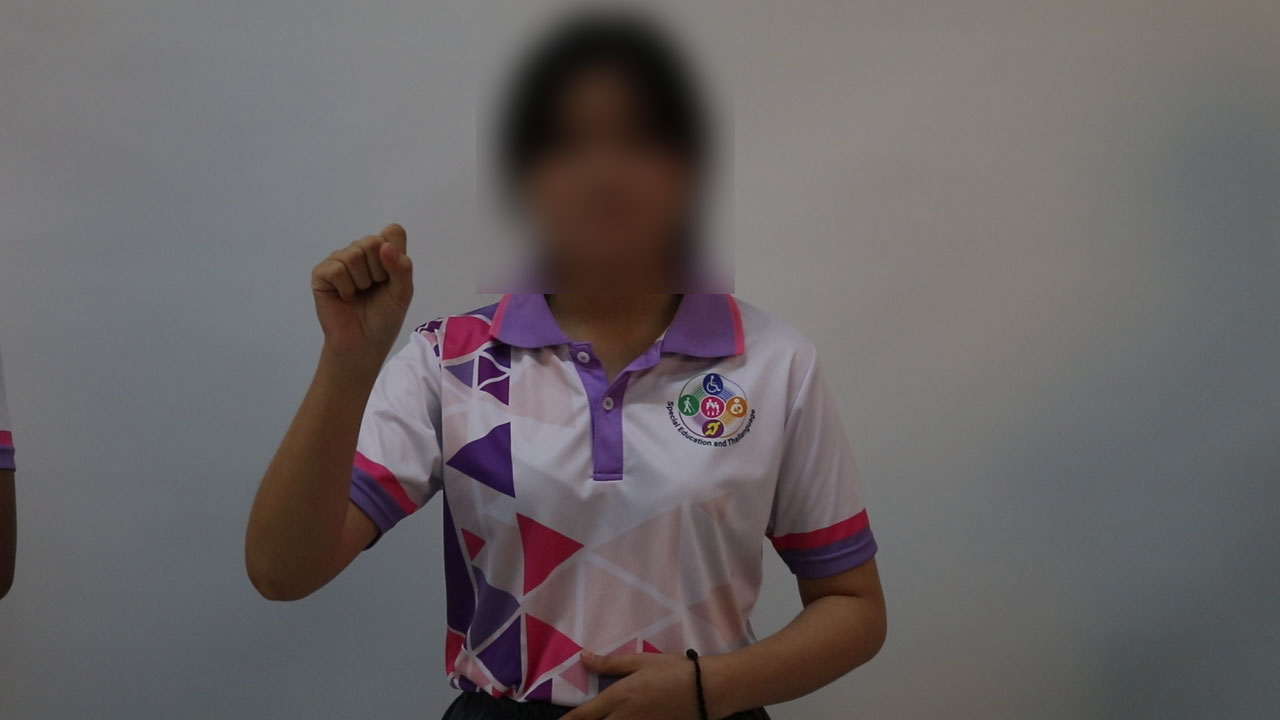sor: (301, 216, 421, 364)
